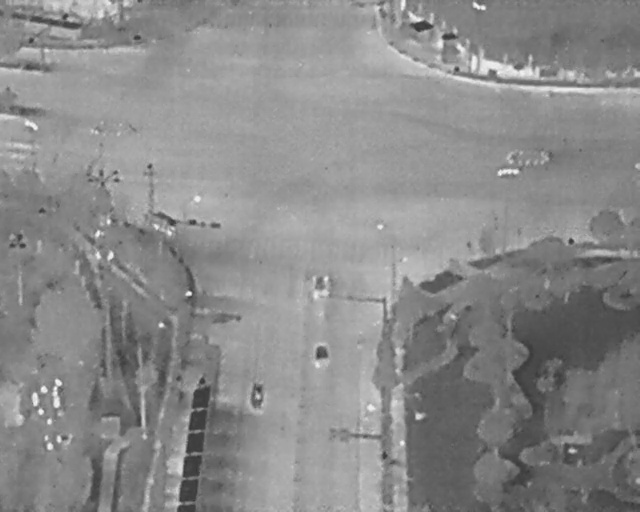Car: (249, 380, 265, 411), (313, 341, 330, 369), (313, 275, 330, 300)
